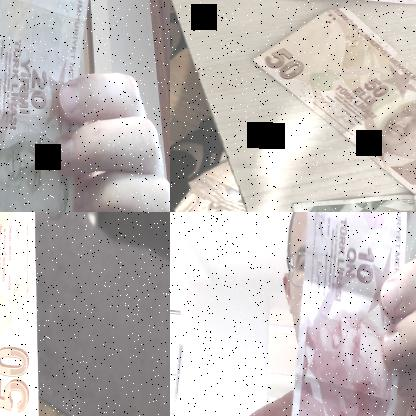5 TL: (0, 0, 93, 211)
